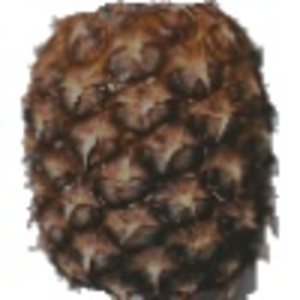abacaxi: (18, 1, 282, 299)
